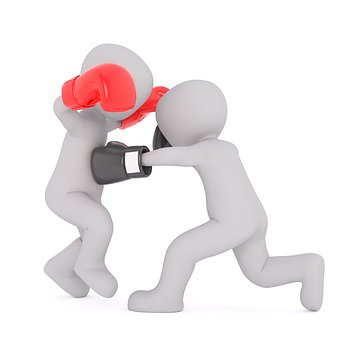fist: (65, 71, 131, 114), (96, 148, 148, 185)
